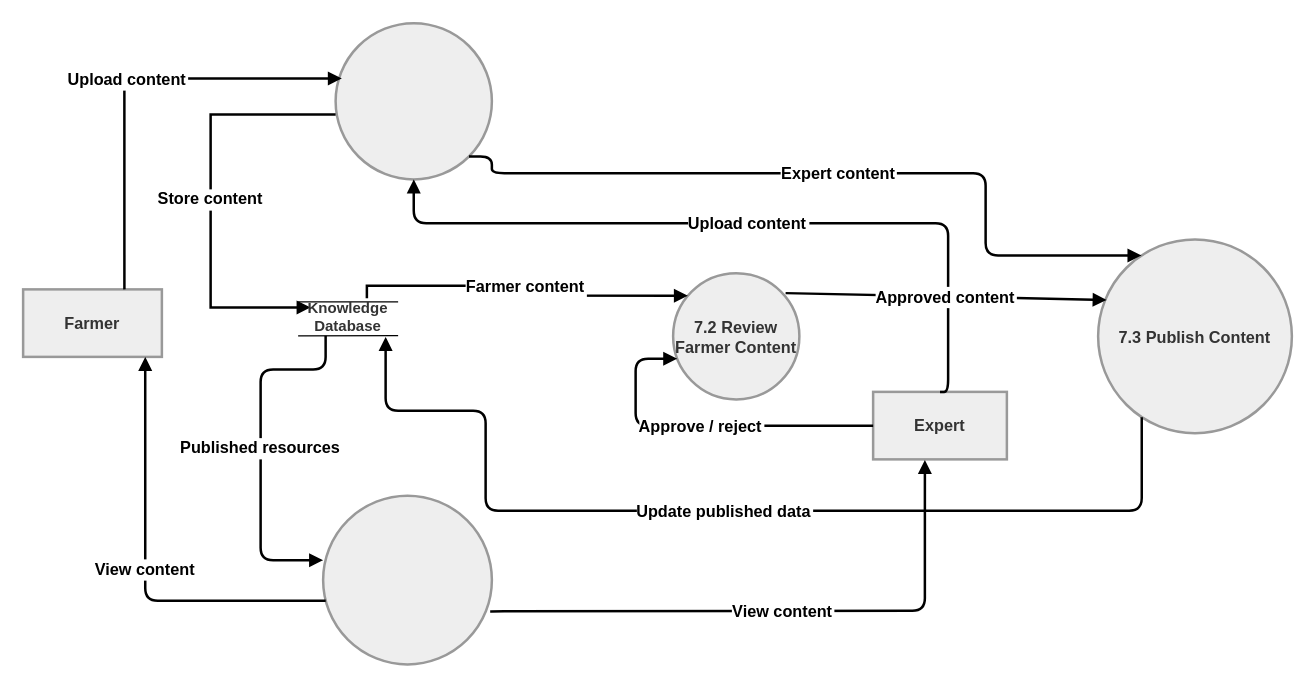
Some shapes in this 1314 by 686 pixel diagram are drawn without their labels. The shapes that lost their labels are listed below. From the top down, each one's centre as x and y in pixels, then its label:
At point (413, 100): "7.1 Upload Knowledge Content".
At point (406, 579): "7.4 View Knowledge Resources".
